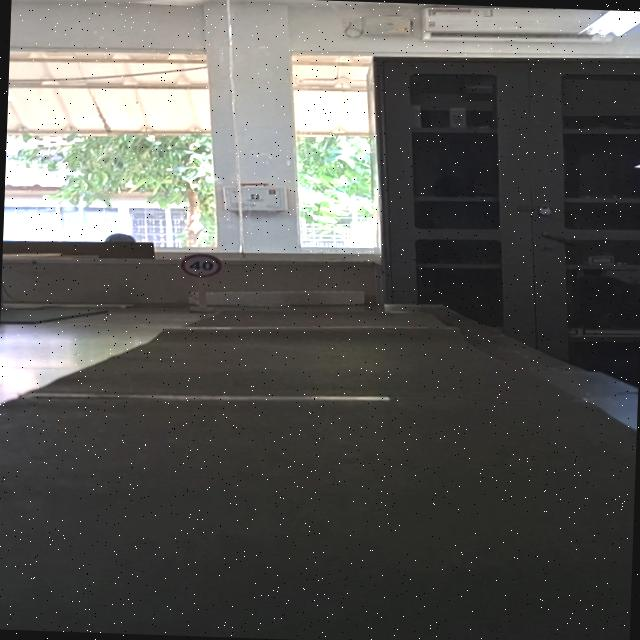Speed40: (178, 252, 224, 279)
